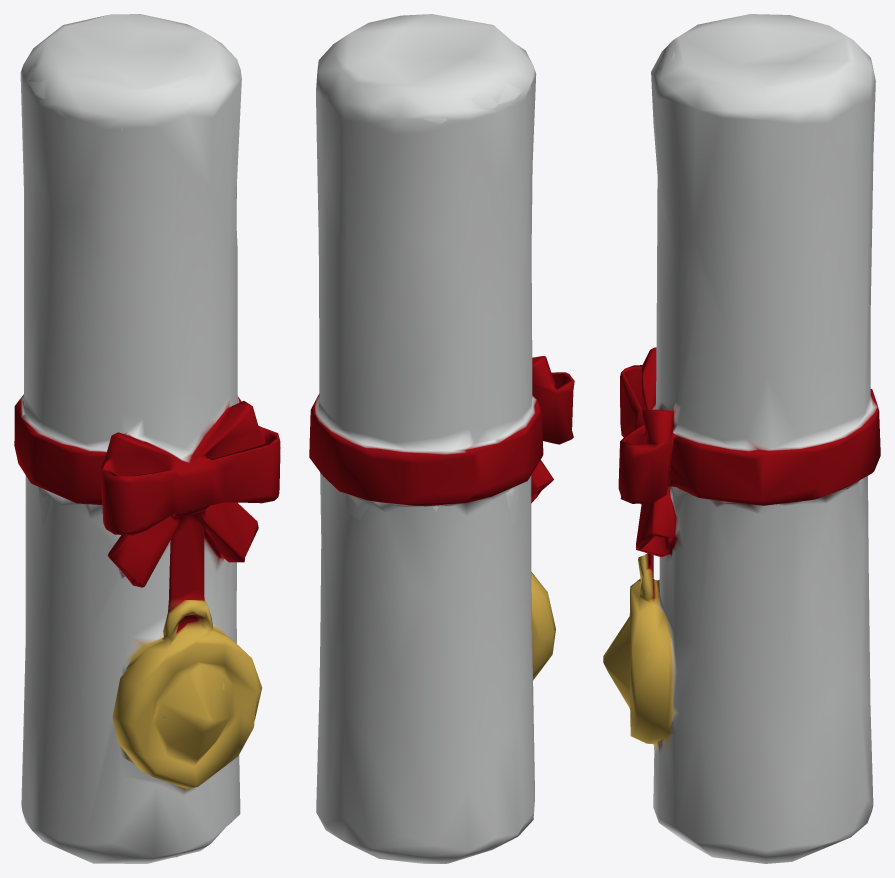
The model's file is gen3d-diploma-lod0.glb.
The picture shows the model from 3 angles, left to right: view 1: azimuth 30°, elevation 25°; view 2: azimuth 150°, elevation 25°; view 3: azimuth 270°, elevation 25°; orthographic projection.
Visible parts, largest first — view 1: part_0; view 2: part_0; view 3: part_0.
Part boxes in pixels (x1,y1,x2,y2): part_0: (14,14,280,863); part_0: (309,14,574,863); part_0: (603,14,880,863).
Size of the model in its own units: 0.2675 by 0.9988 by 0.3184.
